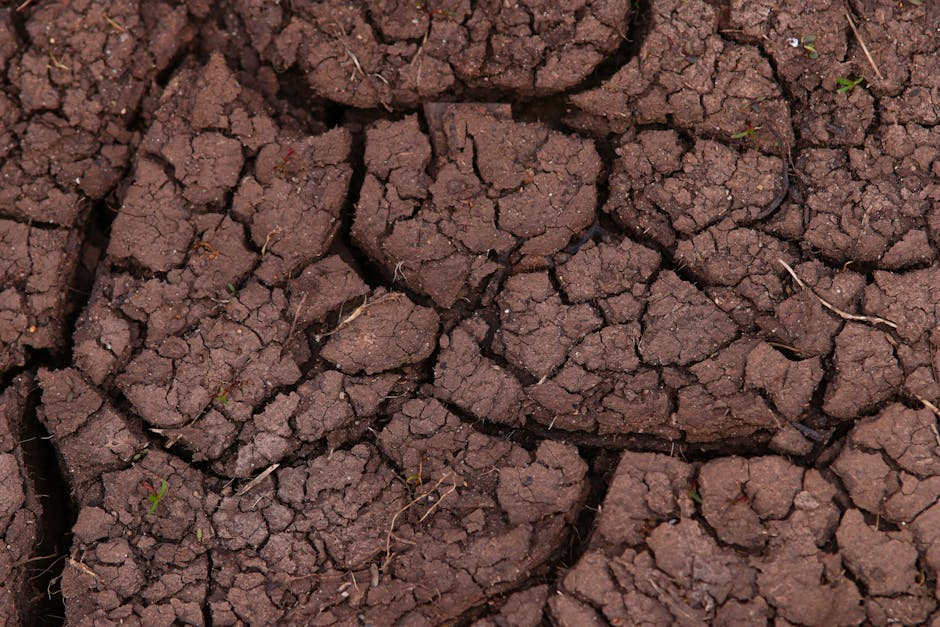深大裂缝: (9, 189, 298, 363), (417, 191, 923, 270), (778, 281, 881, 489)
细微裂纹: (595, 14, 909, 87)
网状裂隙: (35, 401, 532, 609)
